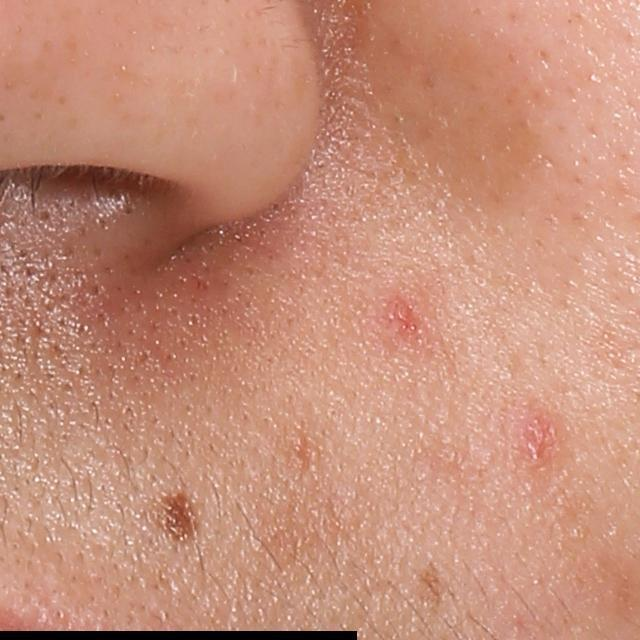nevus: (154, 491, 205, 542)
